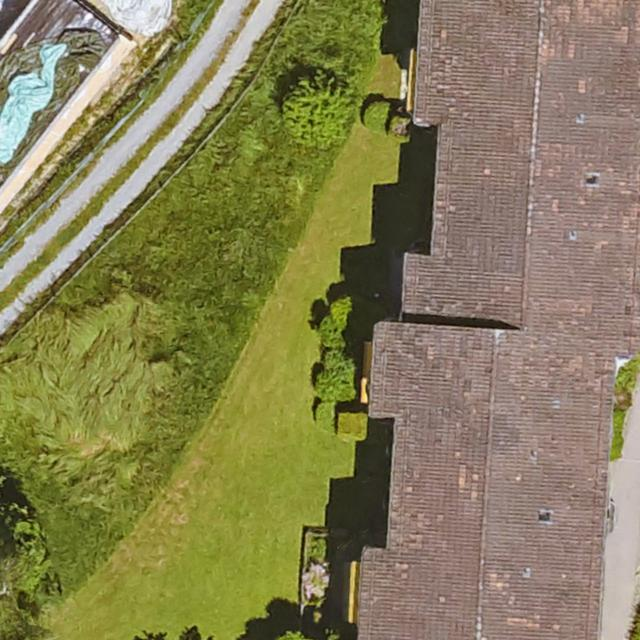tree: (0, 491, 49, 627), (291, 79, 354, 143)
